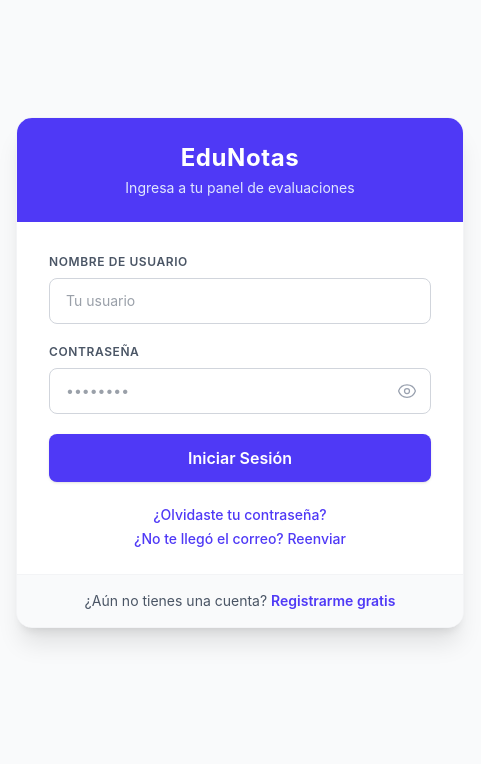
Test case: LoginPage › muestra el aviso de reintento si el reenvío responde 429
The width and height of the screenshot is (481, 764).
Click the button "¿No te llegó el correo? Reenviar". click: (240, 538)
box: x1=134 y1=528 x2=346 y2=548
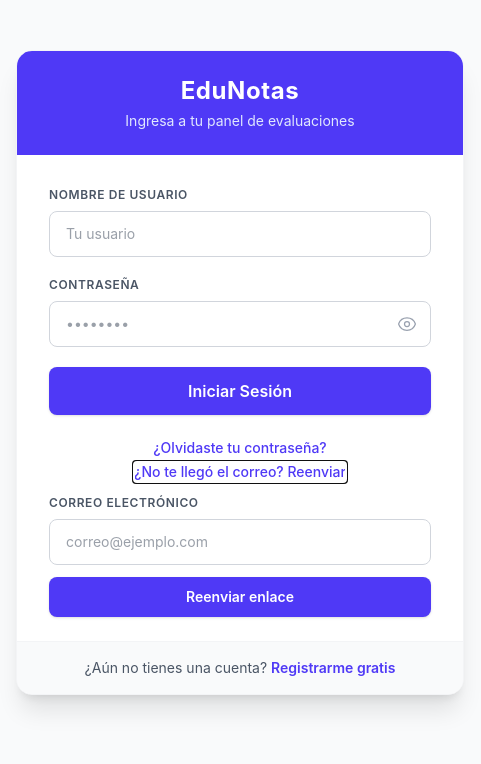
Type "nuevo@example.com" into the field labelled "Correo electrónico". click: (240, 542)
box: x1=49 y1=518 x2=431 y2=564
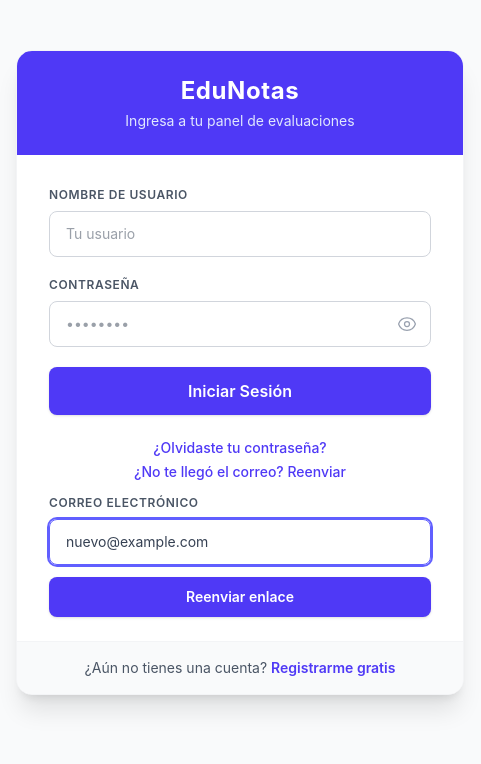
Click the button "Reenviar enlace". click: (240, 596)
box: x1=49 y1=576 x2=431 y2=616
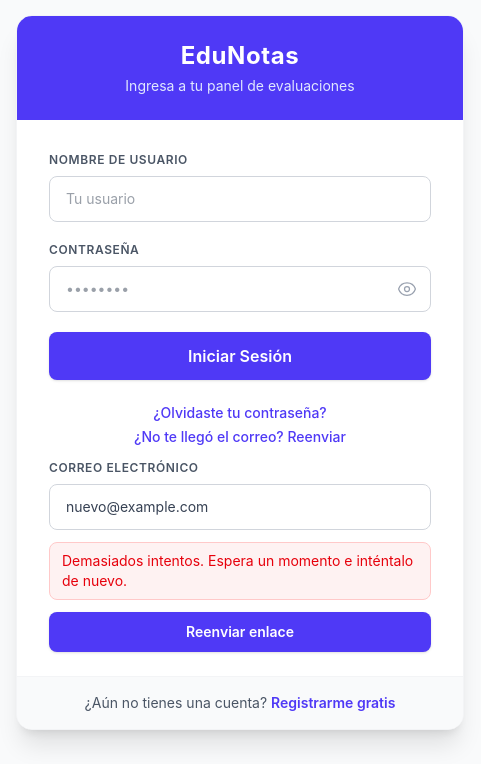
Result: the text "Demasiados intentos. Espera un momento e inténtalo de nuevo." is shown at x1=49 y1=542 x2=431 y2=600
